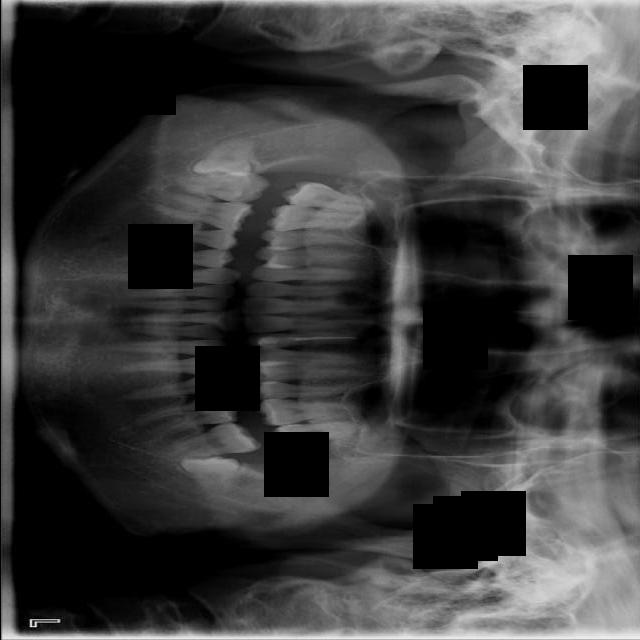52: (247, 333, 290, 349)
73: (287, 328, 364, 347), (29, 604, 49, 614)
BioHorizons Implant: (271, 420, 365, 450)
Biomet 3i Implant: (177, 454, 241, 497)
Blue Sky Bio Implant: (164, 420, 261, 459)
Caries: (280, 180, 374, 213)
Implant: (175, 172, 268, 203)
Keystone Dental Implant: (189, 138, 256, 181)
